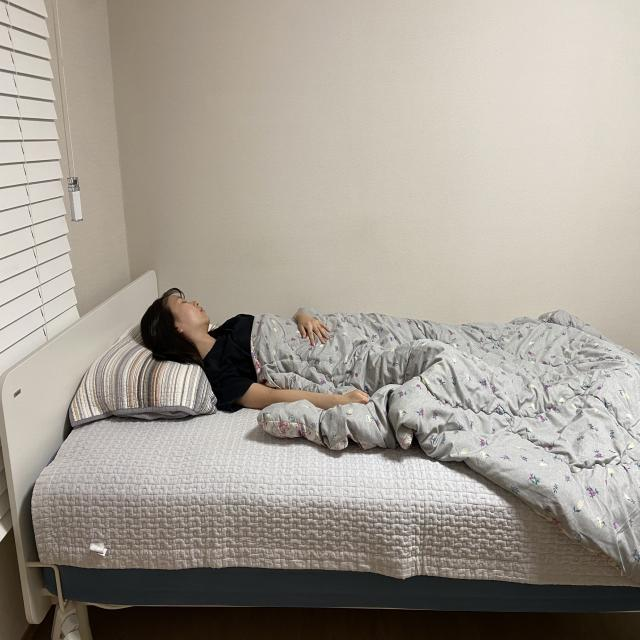people: (128, 266, 640, 480)
